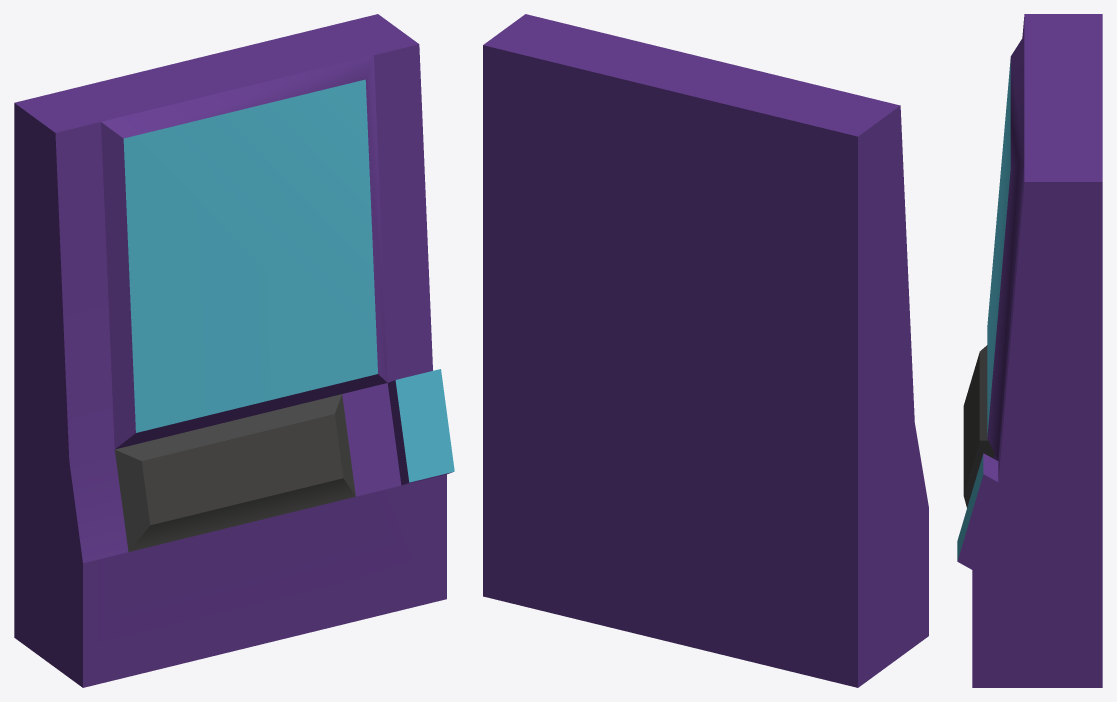
Rendered from vending_machine1.fbx.
3 views of the same model, side by side, from view 1: azimuth 30°, elevation 25°; view 2: azimuth 150°, elevation 25°; view 3: azimuth 270°, elevation 25° (orthographic). The views are drawn at different scales.
Visible parts, largest first — view 1: vendingmachine1; view 2: vendingmachine1; view 3: vendingmachine1.
Part boxes in pixels (left/top/right/bottom): vendingmachine1: left=14, top=14, right=454, bottom=687; vendingmachine1: left=483, top=14, right=928, bottom=687; vendingmachine1: left=957, top=14, right=1102, bottom=687.
Size of the model in its own units: 166 by 233 by 60.46.
